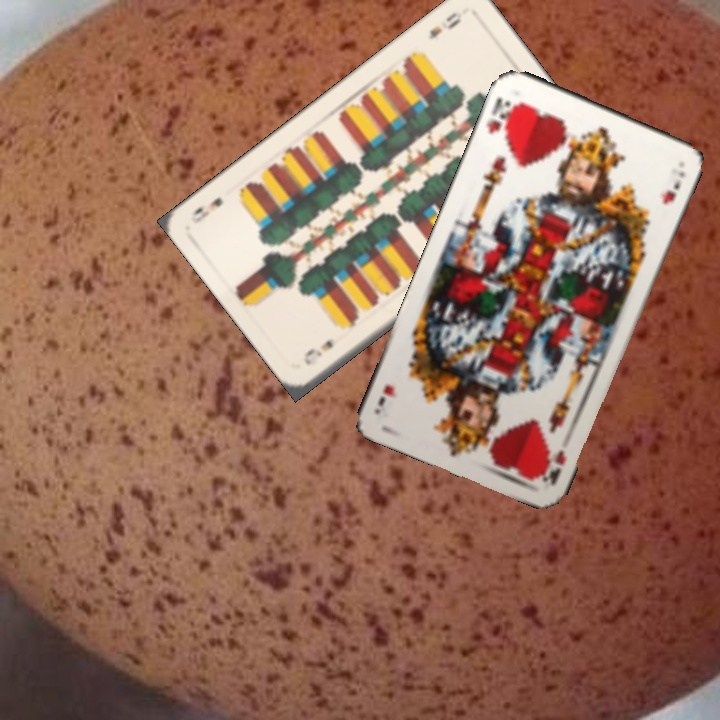E9: (424, 8, 464, 42), (299, 335, 336, 368)
HK: (482, 93, 522, 143), (538, 446, 569, 487)
